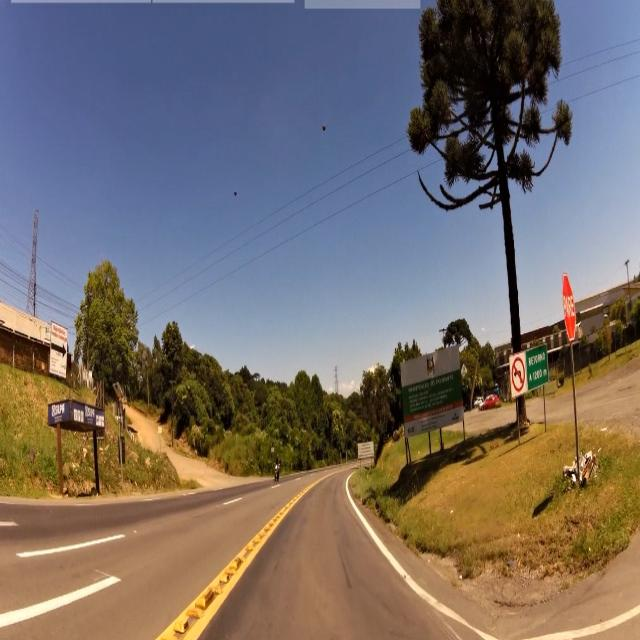R-1: (553, 275, 593, 346)
R-4a: (512, 357, 526, 395)
